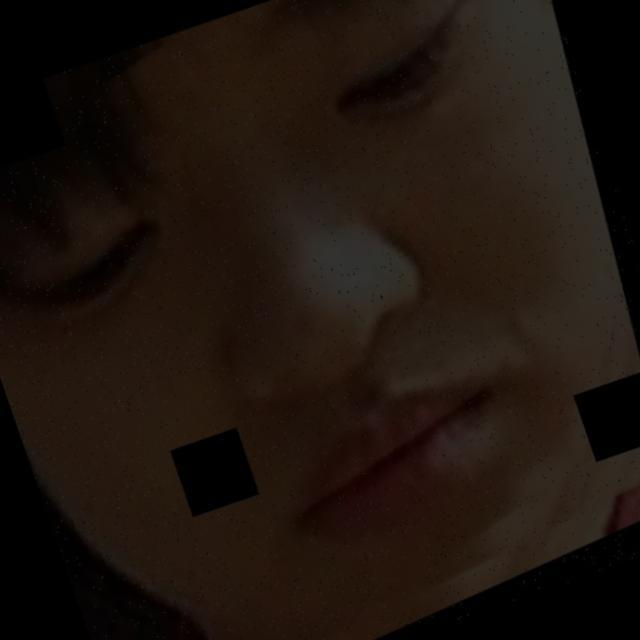Sad: (22, 27, 576, 580)
